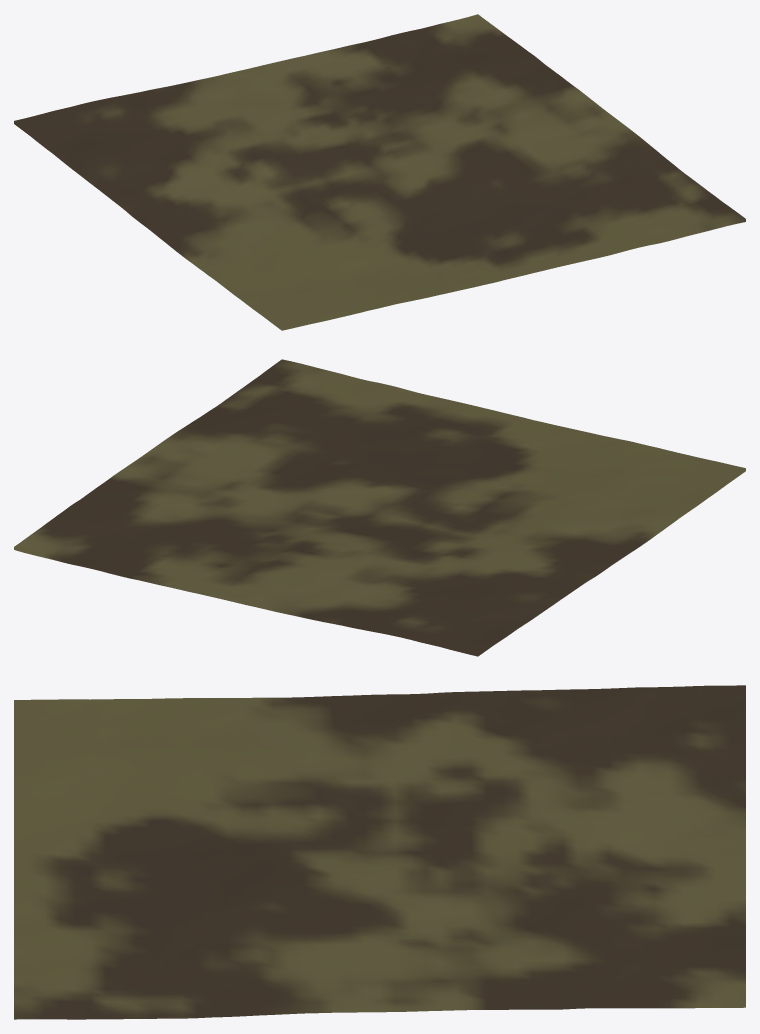
Rendered from land_m_11_00.glb.
3 views of the same model, one above another, from view 1: azimuth 30°, elevation 25°; view 2: azimuth 150°, elevation 25°; view 3: azimuth 270°, elevation 25° (orthographic). The views are drawn at different scales.
Visible parts, largest first — view 1: land_m_11_00; view 2: land_m_11_00; view 3: land_m_11_00.
Part boxes in pixels (x1,y1,x2,y2): land_m_11_00: (14, 14, 745, 330); land_m_11_00: (14, 359, 745, 656); land_m_11_00: (14, 685, 745, 1019).
Size of the model in its own units: 960 by 37.4 by 960.
